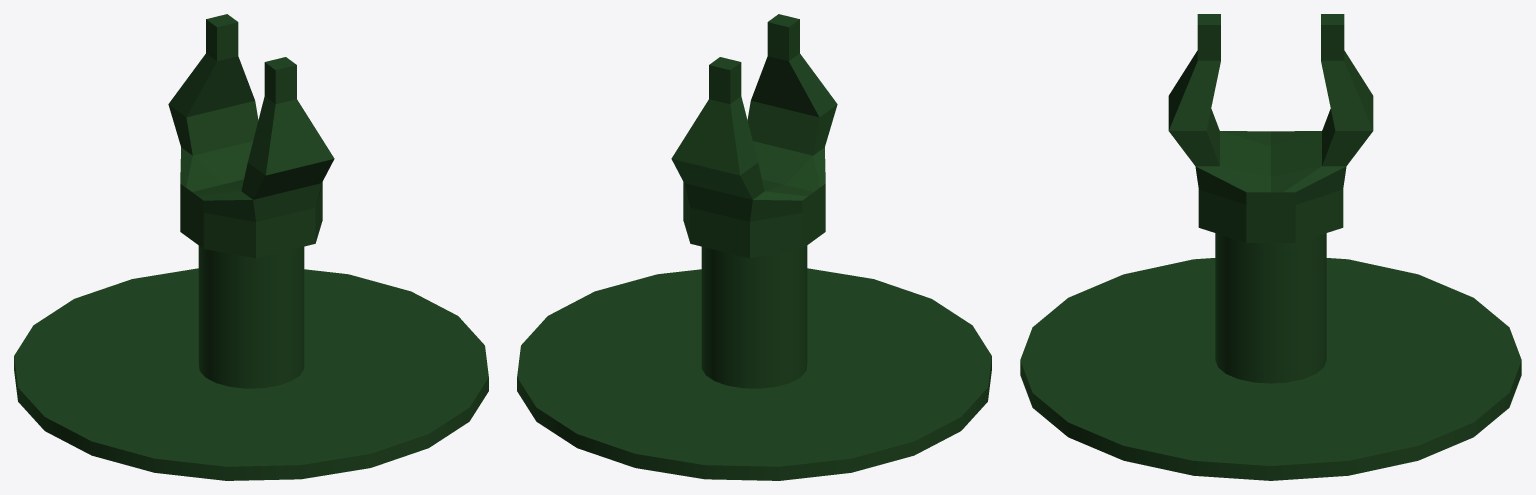
The model's file is turret.fbx.
3 views of the same model, side by side, from view 1: azimuth 30°, elevation 25°; view 2: azimuth 150°, elevation 25°; view 3: azimuth 270°, elevation 25° (orthographic). The views are drawn at different scales.
Visible parts, largest first — view 1: pCylinder3; view 2: pCylinder3; view 3: pCylinder3.
Part boxes in pixels (x1=…): pCylinder3: x1=14, y1=14, x2=488, y2=480; pCylinder3: x1=517, y1=14, x2=991, y2=480; pCylinder3: x1=1020, y1=14, x2=1521, y2=480.
Size of the model in its own units: 3.47 by 2.72 by 3.47.
